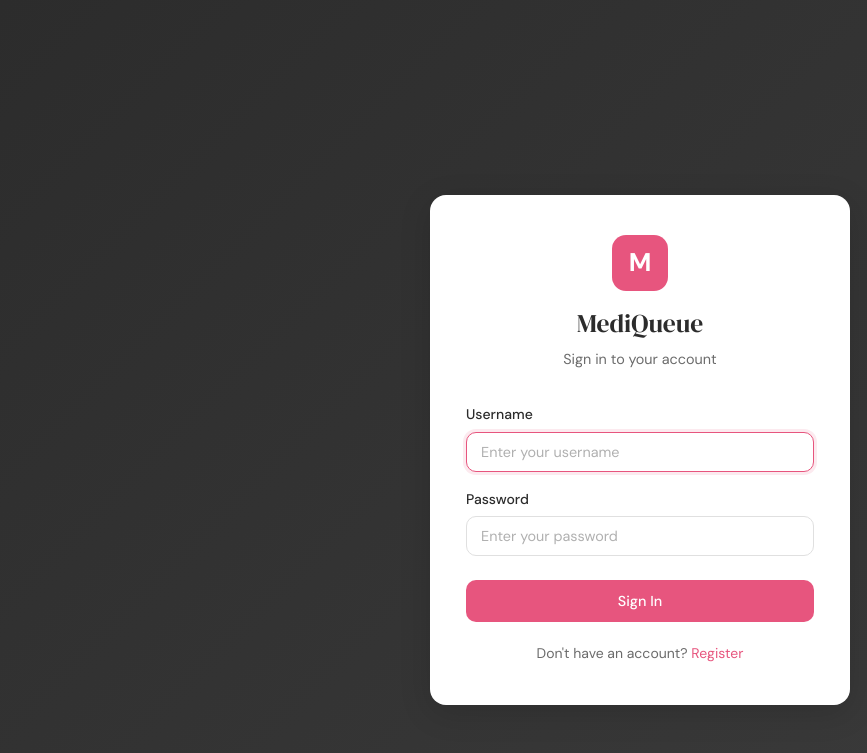
Test case: LoginPage › shows error message on failed login
Type "bad" into the field labelled "Username" at (640, 452), box [466,432,814,472]
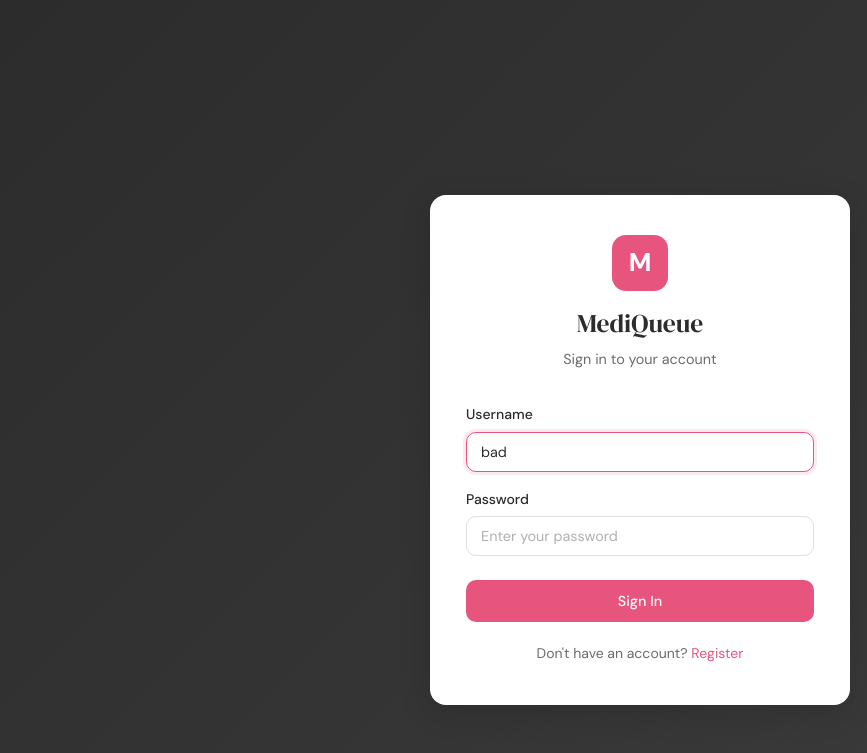
Type "bad" into the password field labelled "Password" at (640, 536), box [466,516,814,556]
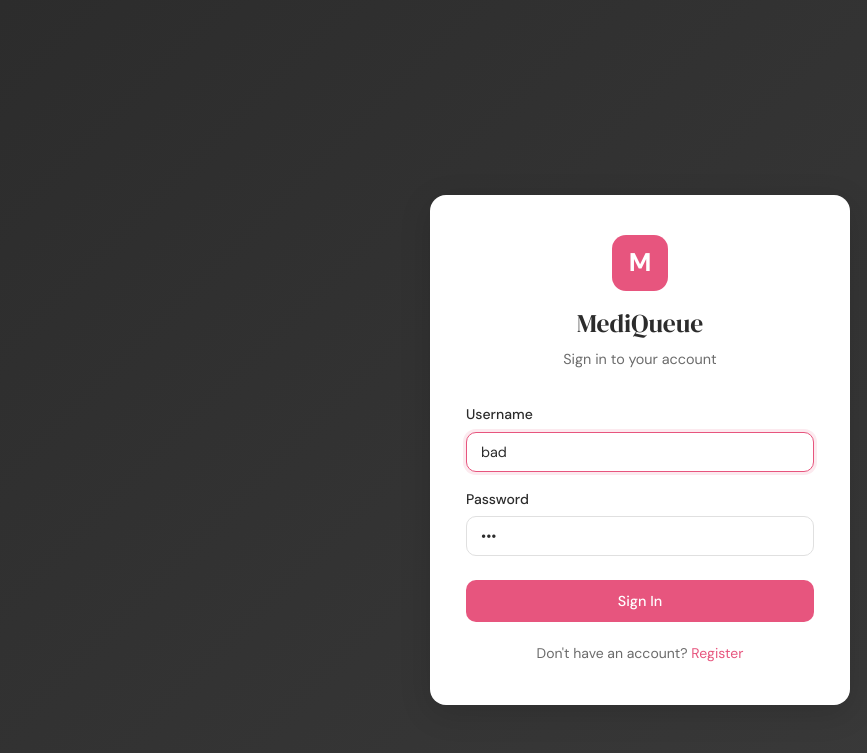
Click the button "Sign In" at (640, 601), box [466,580,814,622]
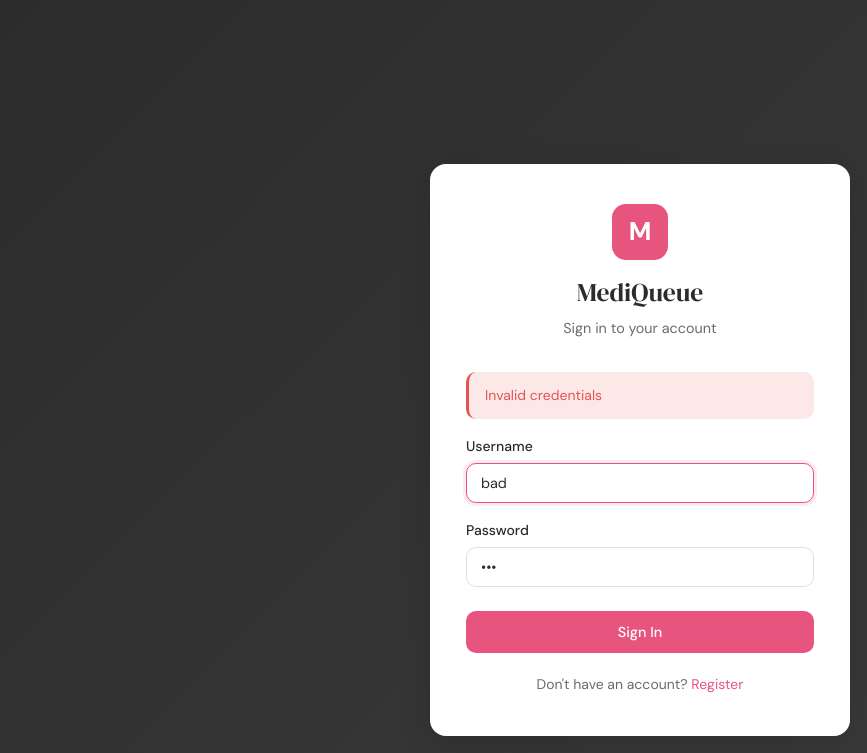
expect the text "Invalid credentials" is shown: met, box [466,372,814,419]
